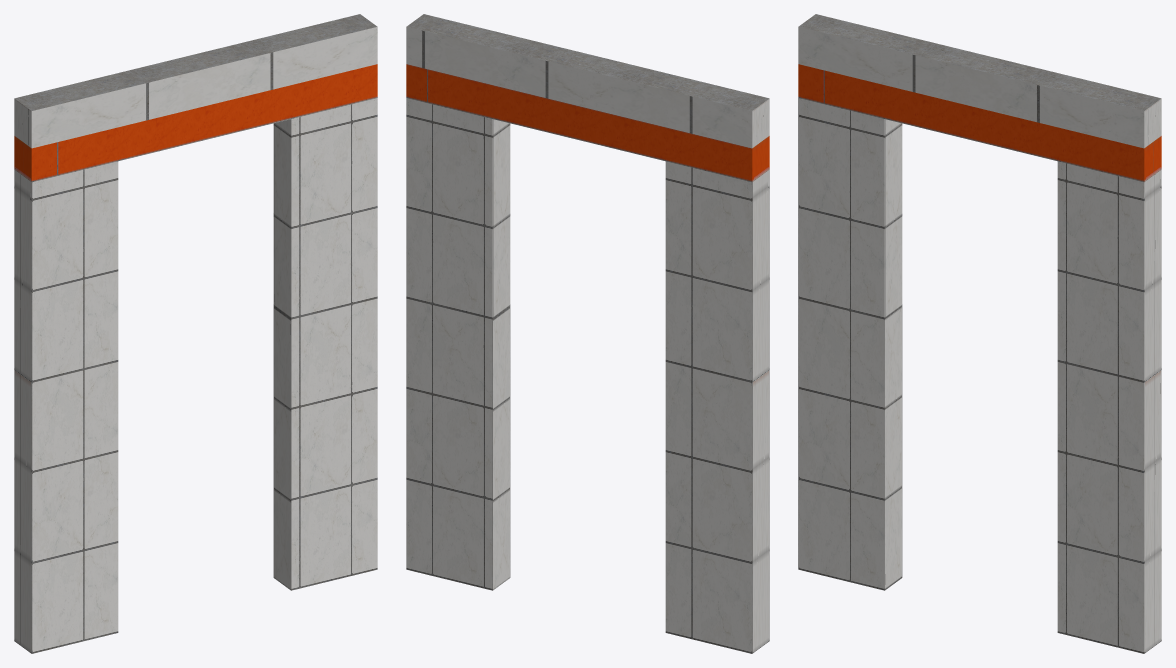
Rendered from WallDoor_1.fbx.
The picture shows the model from 3 angles, left to right: view 1: azimuth 30°, elevation 25°; view 2: azimuth 150°, elevation 25°; view 3: azimuth 330°, elevation 25°; orthographic projection.
Visible parts, largest first — view 1: WallDoor_1; view 2: WallDoor_1; view 3: WallDoor_1.
Boxes of the visible parts, bbox=[...] form: WallDoor_1: bbox=[14, 14, 377, 653]; WallDoor_1: bbox=[406, 14, 769, 653]; WallDoor_1: bbox=[798, 14, 1161, 653].
Size of the model in its own units: 2 by 3 by 0.175.
